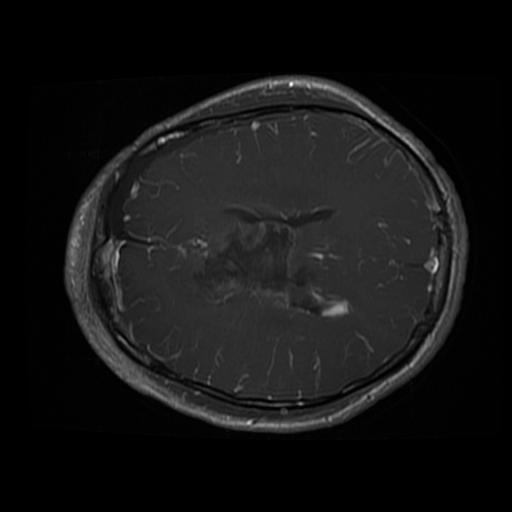glioma: (192, 195, 350, 321)
